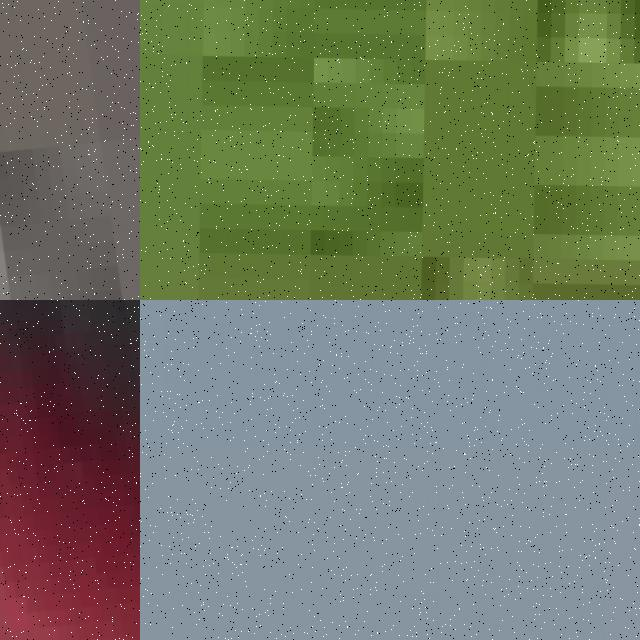drone: (0, 300, 140, 640), (0, 0, 140, 300)
